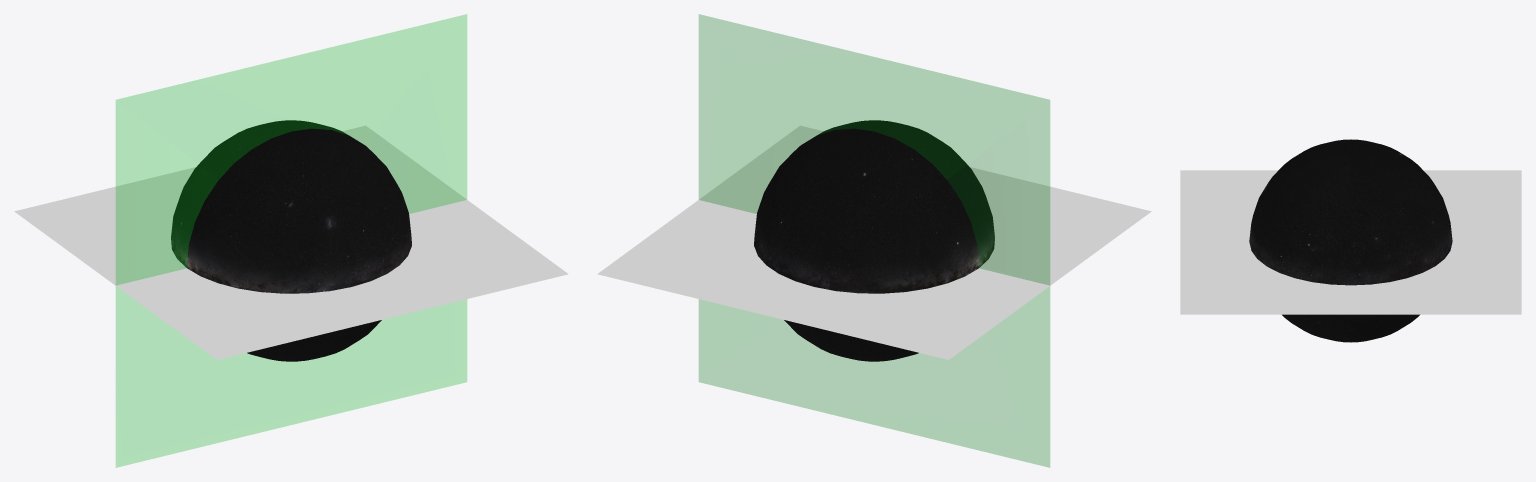
File: portal-5.glb
3 renders of one model, left to right at view 1: azimuth 30°, elevation 25°; view 2: azimuth 150°, elevation 25°; view 3: azimuth 270°, elevation 25°, orthographic. The views are drawn at different scales.
Visible parts, largest first — view 1: clip, skyOut, showIn, hideIn, skyIn; view 2: clip, skyIn, hideIn, showIn, skyOut; view 3: hideIn, showIn, skyOut, skyIn.
Boxes of the visible parts, left/top/right/bottom form: clip: left=116, top=14, right=466, bottom=467; skyOut: left=187, top=128, right=411, bottom=361; showIn: left=116, top=200, right=568, bottom=359; hideIn: left=14, top=125, right=466, bottom=285; skyIn: left=171, top=120, right=348, bottom=267; clip: left=699, top=14, right=1049, bottom=467; skyIn: left=754, top=128, right=978, bottom=361; hideIn: left=597, top=200, right=1049, bottom=359; showIn: left=699, top=125, right=1151, bottom=285; skyOut: left=817, top=120, right=994, bottom=267; hideIn: left=1350, top=170, right=1521, bottom=314; showIn: left=1180, top=170, right=1350, bottom=314; skyOut: left=1249, top=139, right=1350, bottom=342; skyIn: left=1351, top=139, right=1452, bottom=342.
Bounding box in the file's own units: 200 × 200 × 200.
11 materials, 4 textured.
